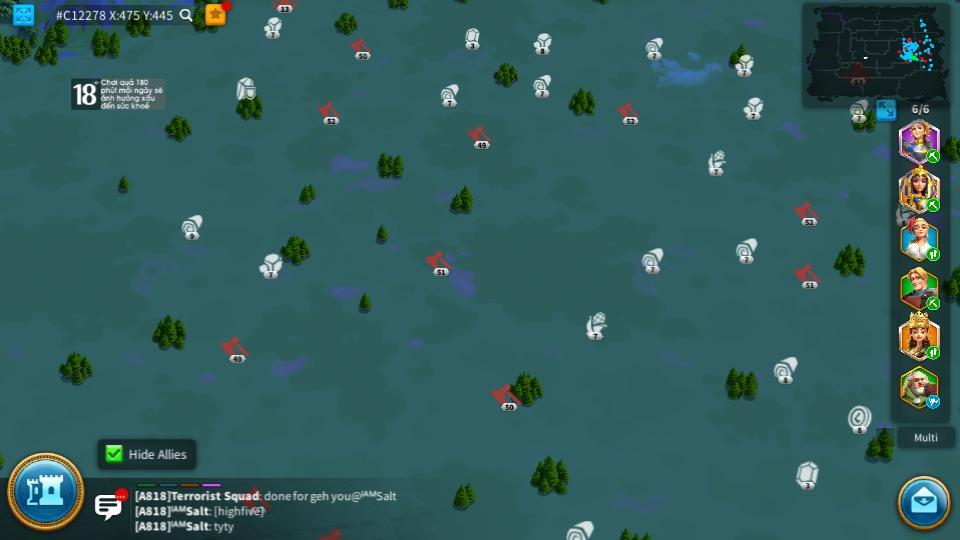gem-z-out: (795, 461, 820, 488), (465, 26, 481, 47)
march_farming: (925, 197, 941, 212)
march_idle: (925, 396, 942, 408)
march_marching: (925, 150, 942, 162), (925, 347, 941, 359), (925, 297, 942, 308)
